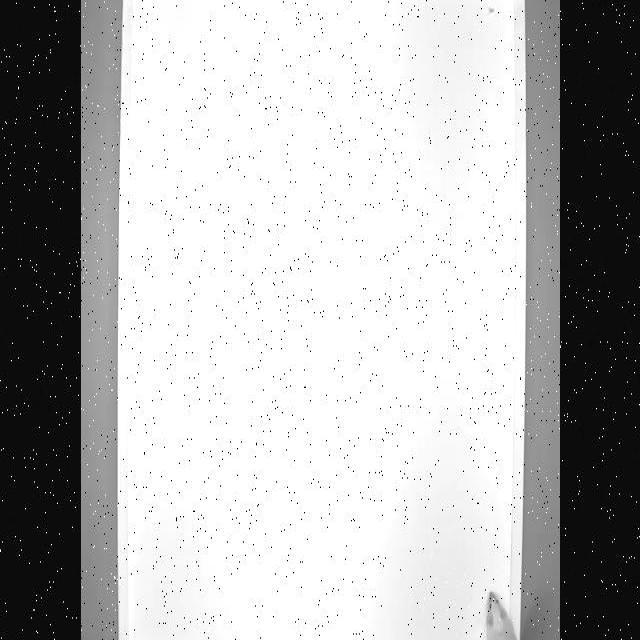rat: (481, 581, 521, 640)
